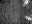person: (26, 14, 31, 21), (24, 1, 31, 3)
